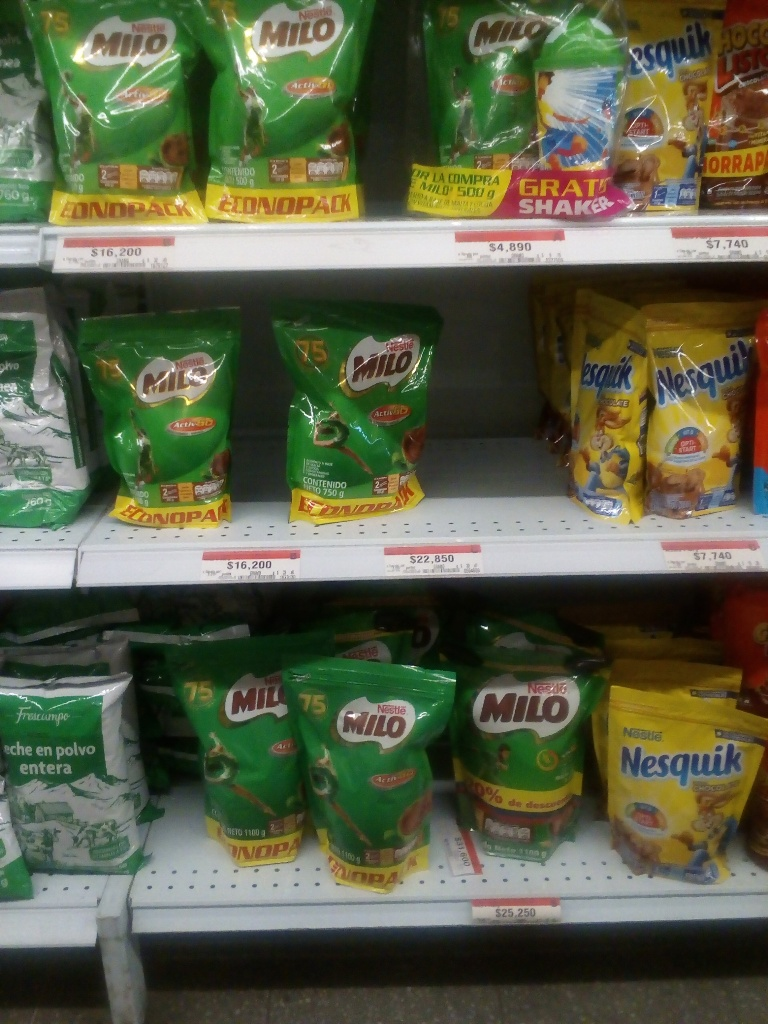COL0170103DYP36000: (702, 1, 768, 213)
COL0170203DYP50000: (0, 2, 200, 225)
